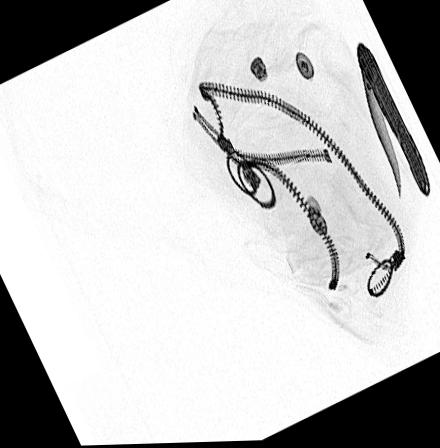Knife: (354, 44, 432, 207)
